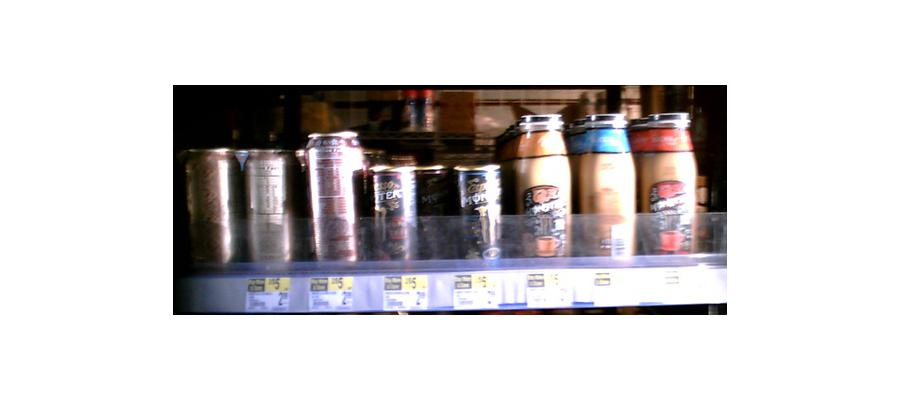bottle: (511, 112, 571, 264), (575, 109, 635, 261), (636, 111, 695, 258), (303, 128, 366, 261), (182, 147, 240, 267), (241, 145, 297, 267), (452, 159, 508, 266), (367, 157, 416, 266)
